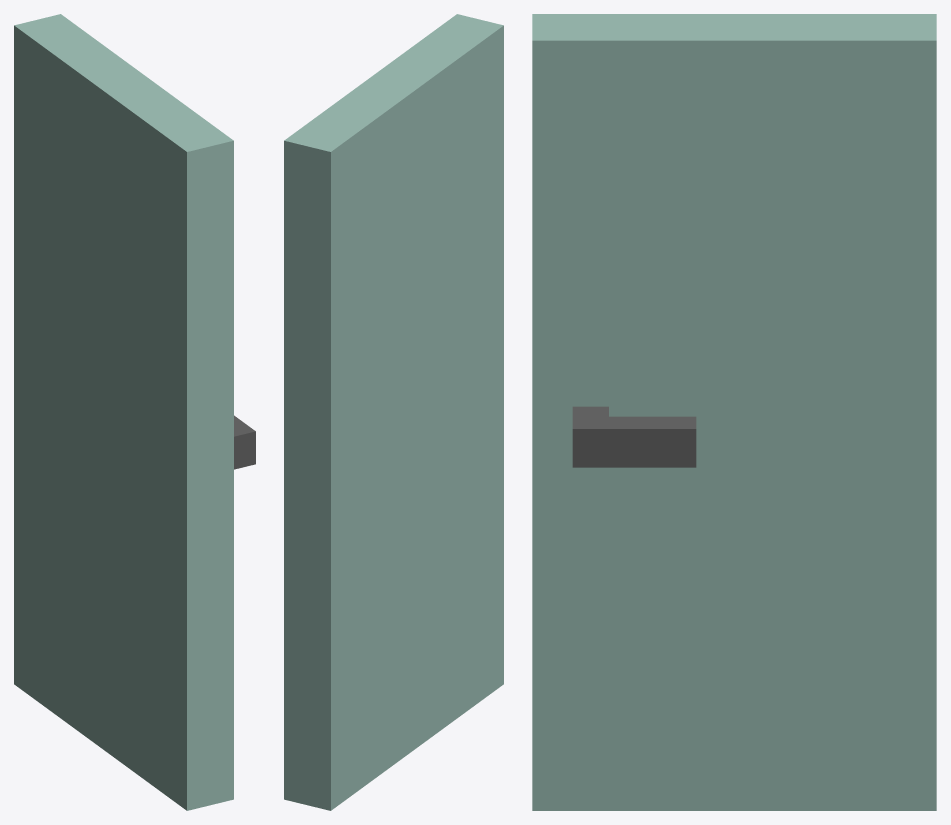
File: door.fbx
The picture shows the model from 3 angles, left to right: view 1: azimuth 30°, elevation 25°; view 2: azimuth 150°, elevation 25°; view 3: azimuth 270°, elevation 25°; orthographic projection. The views are drawn at different scales.
Parts seen in each view (by area): view 1: Cube; view 2: Cube; view 3: Cube.
Part boxes in pixels (<box>): Cube: <box>14,14,255,810</box>; Cube: <box>284,14,503,810</box>; Cube: <box>532,14,936,810</box>.
Size of the model in its own units: 51.4 by 376 by 179.
